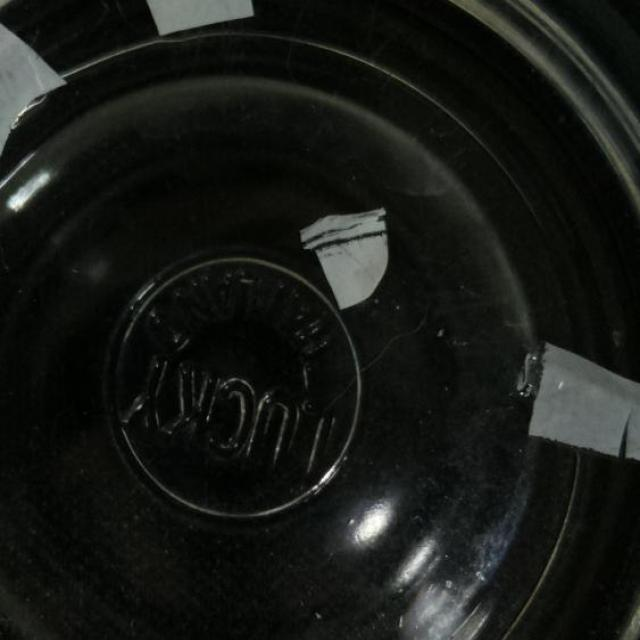fiber: (528, 340, 639, 478), (0, 0, 70, 180), (300, 208, 403, 310), (113, 0, 267, 35)
